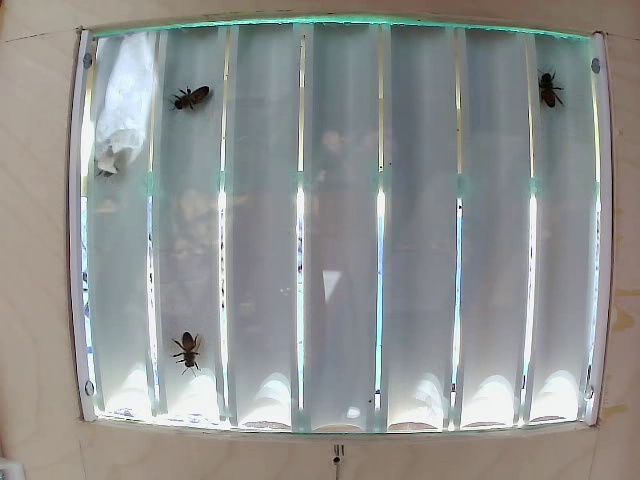bee: (151, 316, 205, 365), (187, 77, 226, 139), (532, 65, 565, 120)
